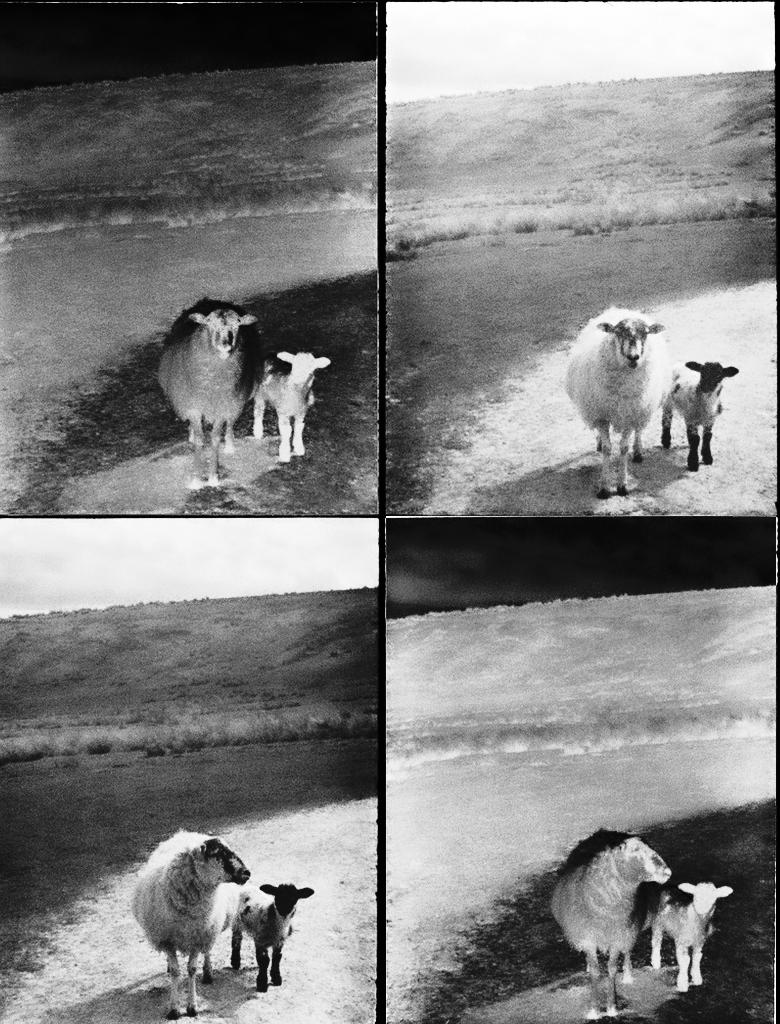Sheep: (549, 824, 673, 1024), (130, 826, 253, 1019), (159, 302, 268, 490), (573, 300, 664, 500), (254, 342, 332, 462), (650, 882, 729, 994), (664, 354, 736, 471), (232, 882, 310, 989)
